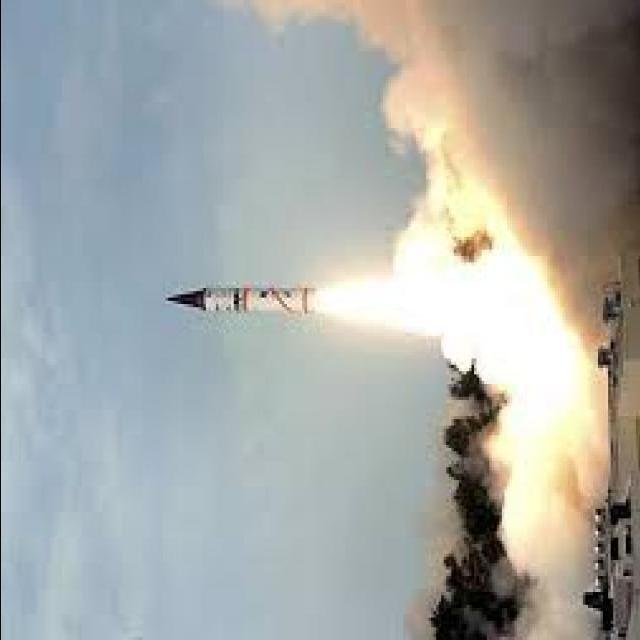missile: (162, 283, 318, 319)
